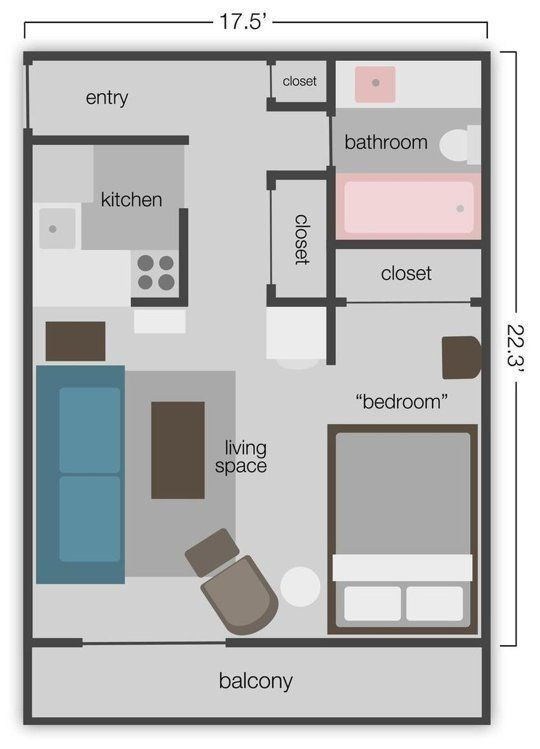room: (31, 310, 337, 648), (327, 427, 488, 637), (332, 52, 481, 238), (331, 243, 482, 425), (33, 140, 192, 310), (18, 59, 331, 143), (189, 132, 330, 308)
wall: (469, 45, 507, 734), (15, 128, 48, 732), (16, 703, 540, 737), (12, 39, 495, 70), (323, 234, 492, 268), (27, 129, 199, 159), (322, 165, 342, 367), (171, 205, 196, 310), (257, 90, 347, 118), (261, 165, 342, 192), (127, 293, 200, 318), (318, 43, 338, 122)
